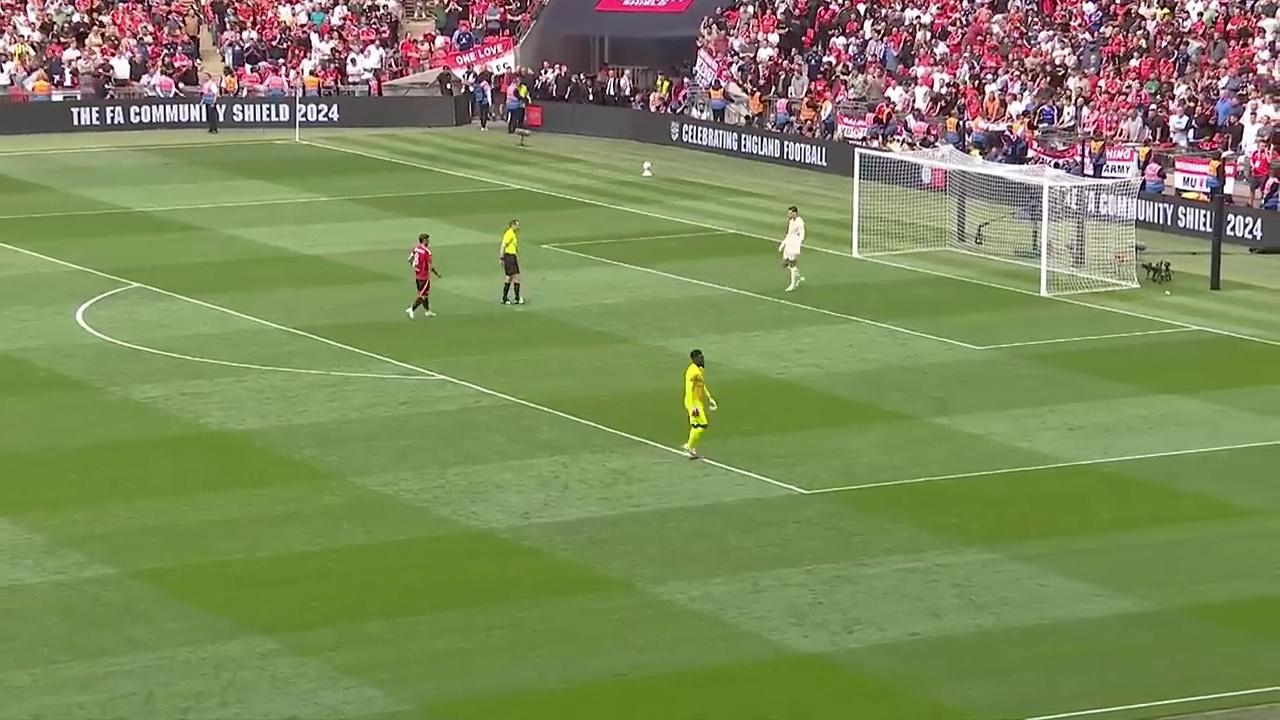player: (681, 352, 716, 460), (407, 233, 440, 318), (780, 206, 804, 289)
referee: (498, 219, 530, 306)
